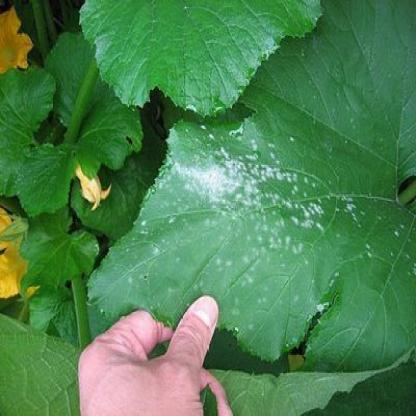Squash Powdery mildew leaf: (82, 102, 406, 346)
